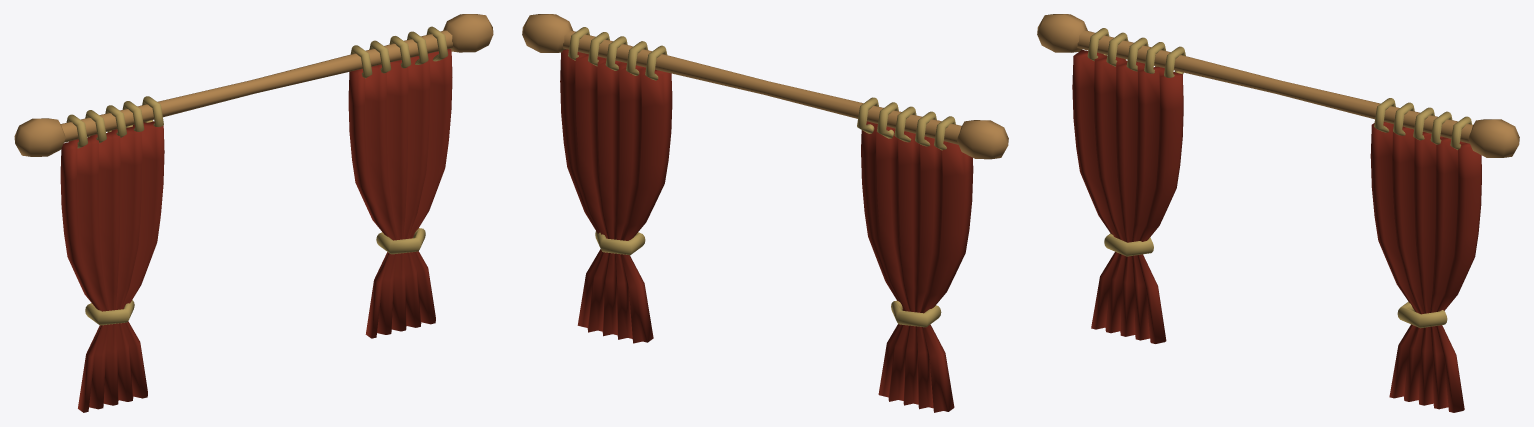
File: props_rideaux_ouvert.fbx
3 views of the same model, side by side, from view 1: azimuth 30°, elevation 25°; view 2: azimuth 150°, elevation 25°; view 3: azimuth 330°, elevation 25° (orthographic).
Parts seen in each view (by area): view 1: Cube; view 2: Cube; view 3: Cube.
Part boxes in pixels (bbox=[...]): Cube: bbox=[14, 14, 493, 412]; Cube: bbox=[522, 14, 1008, 412]; Cube: bbox=[1037, 14, 1519, 412].
Bounding box in the file's own units: 448 × 37.89 × 266.
